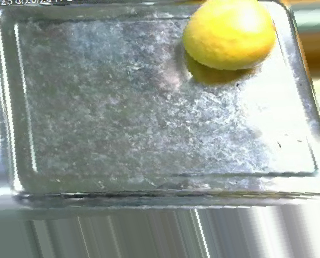Mango: (179, 0, 281, 70)
